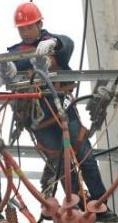gloves: (35, 38, 57, 56), (0, 61, 17, 80)
hard-hat: (13, 2, 42, 28)
